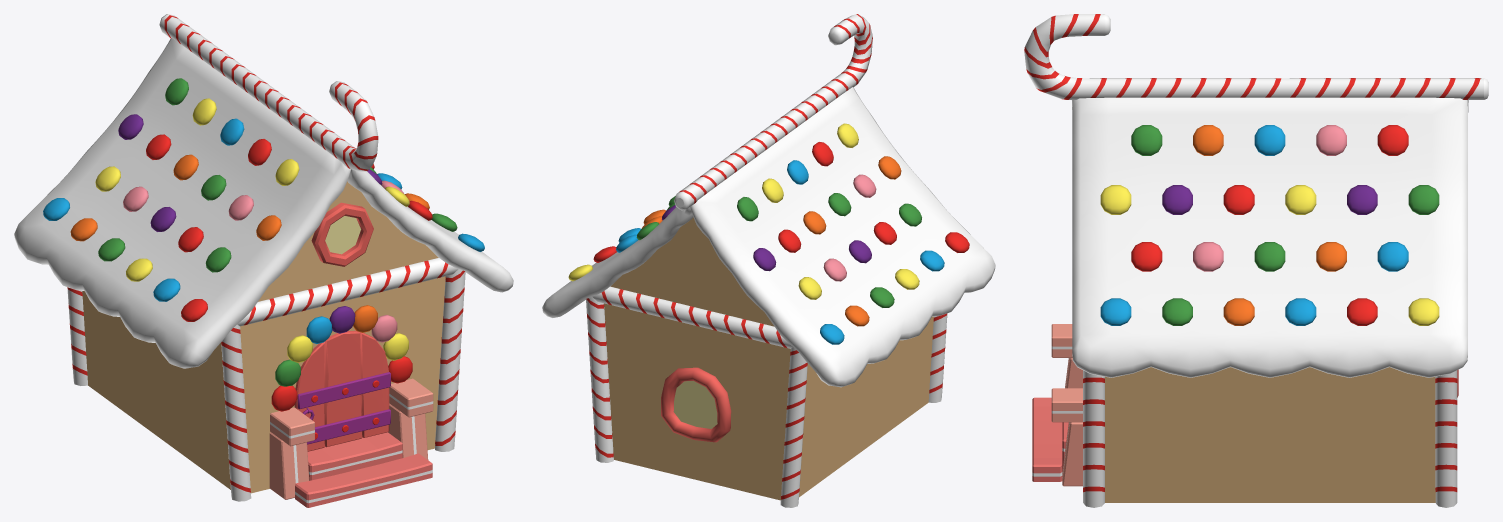
File: House_1.fbx
3 renders of one model, left to right at view 1: azimuth 30°, elevation 25°; view 2: azimuth 150°, elevation 25°; view 3: azimuth 270°, elevation 25°, orthographic. The views are drawn at different scales.
Visible parts, largest first — view 1: House_1; view 2: House_1; view 3: House_1.
Boxes of the visible parts, x1=… form: House_1: x1=14, y1=14, x2=513, y2=507; House_1: x1=542, y1=14, x2=995, y2=507; House_1: x1=1024, y1=14, x2=1488, y2=507.
Bounding box in the file's own units: 5.98 × 6.67 × 6.47.
